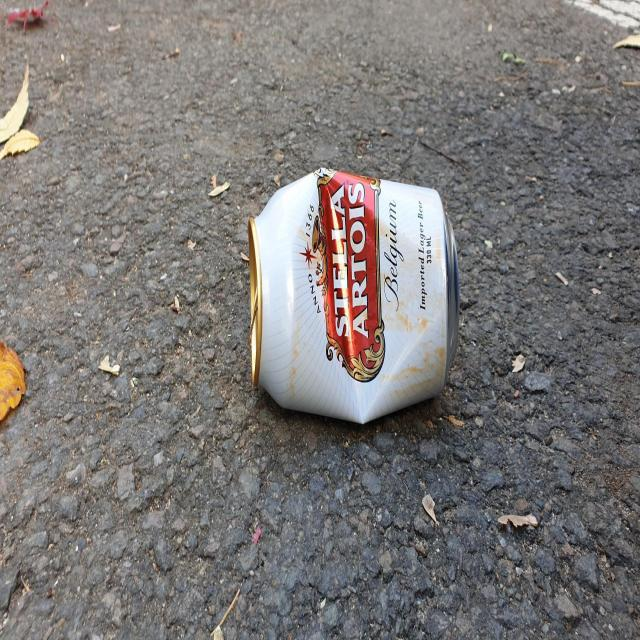can: (248, 167, 460, 423)
